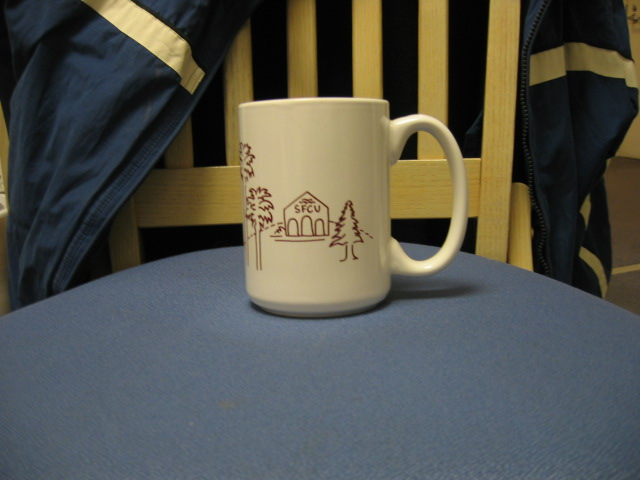mug: (236, 95, 470, 324)
